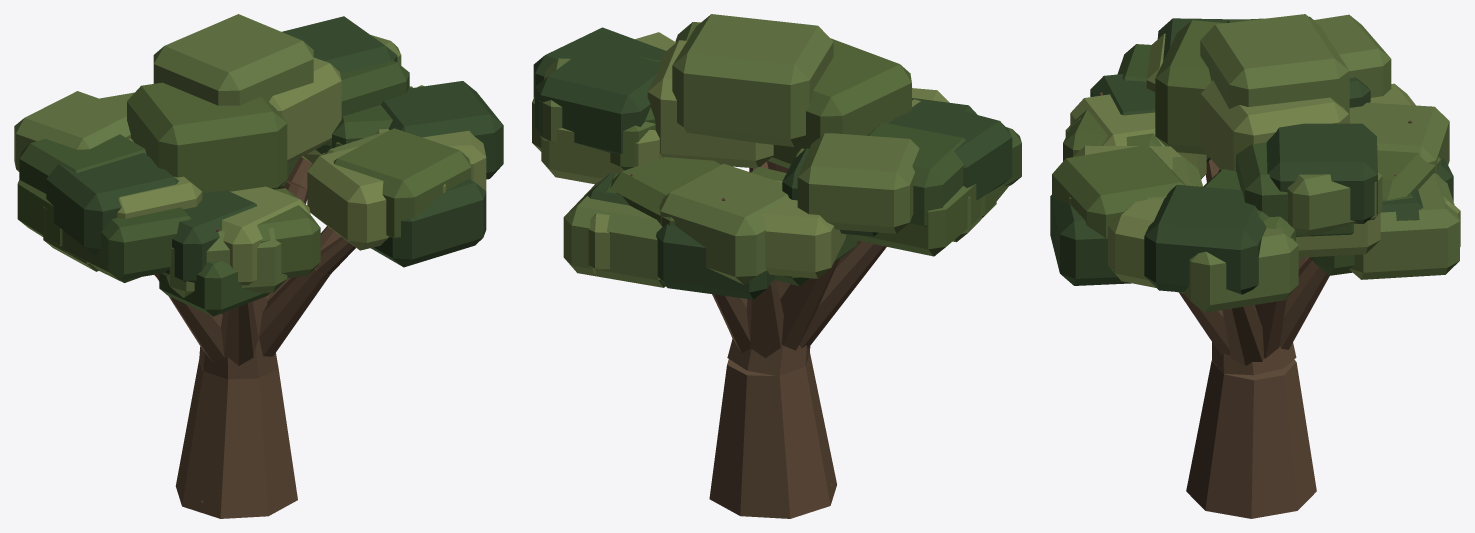
File: apple_ancient_2.glb
3 views of the same model, side by side, from view 1: azimuth 30°, elevation 25°; view 2: azimuth 150°, elevation 25°; view 3: azimuth 270°, elevation 25° (orthographic). The views are drawn at different scales.
Visible parts, largest first — view 1: apple_ancient_2; view 2: apple_ancient_2; view 3: apple_ancient_2.
Part boxes in pixels (left/top/right/bottom): apple_ancient_2: left=14, top=14, right=503, bottom=518; apple_ancient_2: left=532, top=14, right=1021, bottom=518; apple_ancient_2: left=1050, top=14, right=1460, bottom=518.
Size of the model in its own units: 18.41 by 18 by 14.74.
